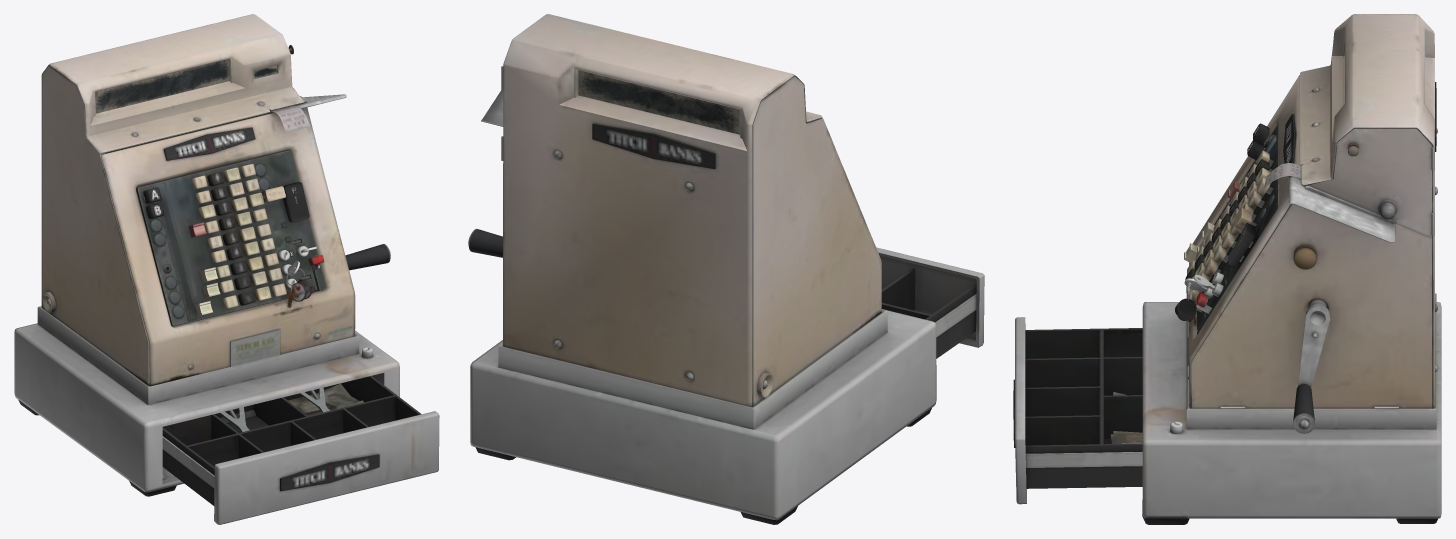
The model's file is CashRegister_01.glb.
3 views of the same model, side by side, from view 1: azimuth 30°, elevation 25°; view 2: azimuth 150°, elevation 25°; view 3: azimuth 270°, elevation 25° (orthographic). The views are drawn at different scales.
Parts seen in each view (by area): view 1: CashRegister_01_body; view 2: CashRegister_01_body; view 3: CashRegister_01_body.
Boxes of the visible parts, bbox=[...] form: CashRegister_01_body: bbox=[14, 14, 439, 524]; CashRegister_01_body: bbox=[468, 14, 984, 524]; CashRegister_01_body: bbox=[1013, 14, 1441, 524].
Bounding box in the file's own units: 0.6005 × 0.6212 × 0.6242.
2 materials, 2 textured.
